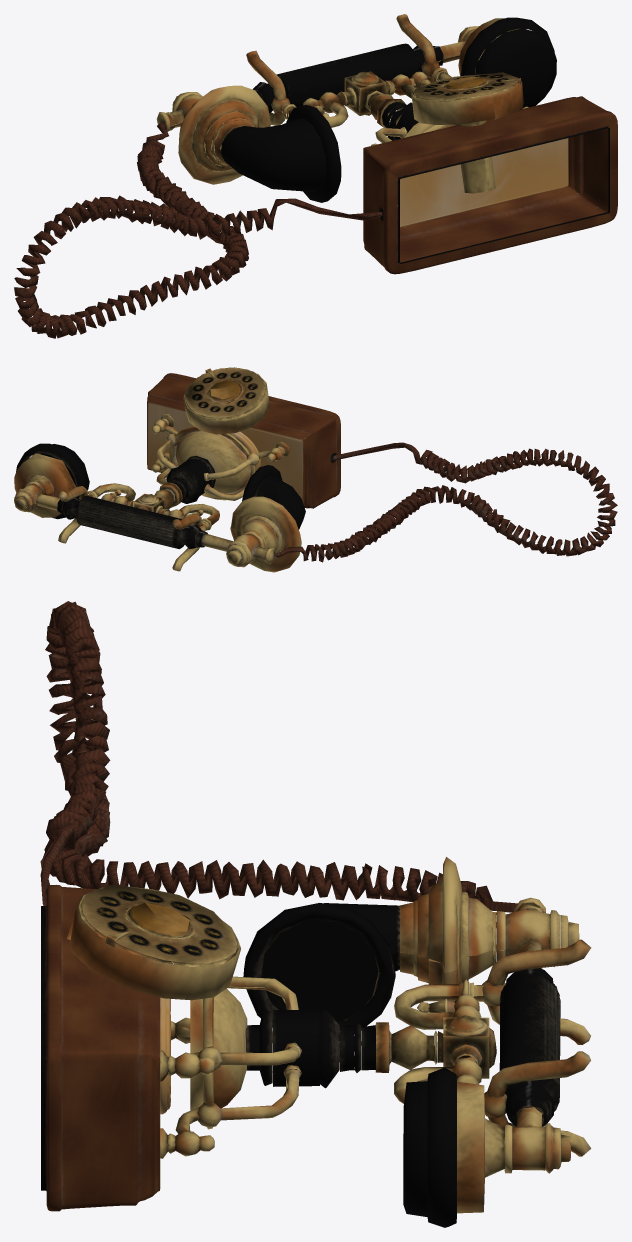
File: rotary_phone.glb
3 views of the same model, one above another, from view 1: azimuth 30°, elevation 25°; view 2: azimuth 150°, elevation 25°; view 3: azimuth 270°, elevation 25° (orthographic). The views are drawn at different scales.
Visible parts, largest first — view 1: base_low_lambert1_0, telephone_low_lambert1_0, Telephone_Cord_low_wire_0, Dial_low_lambert1_0, phone_holder_low_lambert1_0, middle_base_low_lambert1_0; view 2: telephone_low_lambert1_0, Telephone_Cord_low_wire_0, base_low_lambert1_0, middle_base_low_lambert1_0, Dial_low_lambert1_0, phone_holder_low_lambert1_0, middle_details_low_lambert1_0; view 3: telephone_low_lambert1_0, base_low_lambert1_0, Telephone_Cord_low_wire_0, Dial_low_lambert1_0, middle_base_low_lambert1_0, phone_holder_low_lambert1_0, middle_details_low_lambert1_0.
Boxes of the visible parts, x1,y1,x2,y2 form: base_low_lambert1_0: (363,96,617,274); telephone_low_lambert1_0: (156,17,556,202); Telephone_Cord_low_wire_0: (14,122,382,338); Dial_low_lambert1_0: (411,72,523,193); phone_holder_low_lambert1_0: (246,14,451,127); middle_base_low_lambert1_0: (365,90,454,140); telephone_low_lambert1_0: (14,443,305,572); Telephone_Cord_low_wire_0: (274,442,617,562); base_low_lambert1_0: (147,373,340,508); middle_base_low_lambert1_0: (154,426,255,509); Dial_low_lambert1_0: (183,367,269,434); phone_holder_low_lambert1_0: (58,483,219,571); middle_details_low_lambert1_0: (152,414,289,500); telephone_low_lambert1_0: (243,857,579,1227); base_low_lambert1_0: (41,885,170,1211); Telephone_Cord_low_wire_0: (40,601,528,912); Dial_low_lambert1_0: (67,884,240,1000); middle_base_low_lambert1_0: (190,988,443,1129); phone_holder_low_lambert1_0: (394,939,591,1156); middle_details_low_lambert1_0: (160,961,302,1158).
Size of the model in its own units: 0.425 by 0.0919 by 0.2012.
2 materials, 2 textured.
